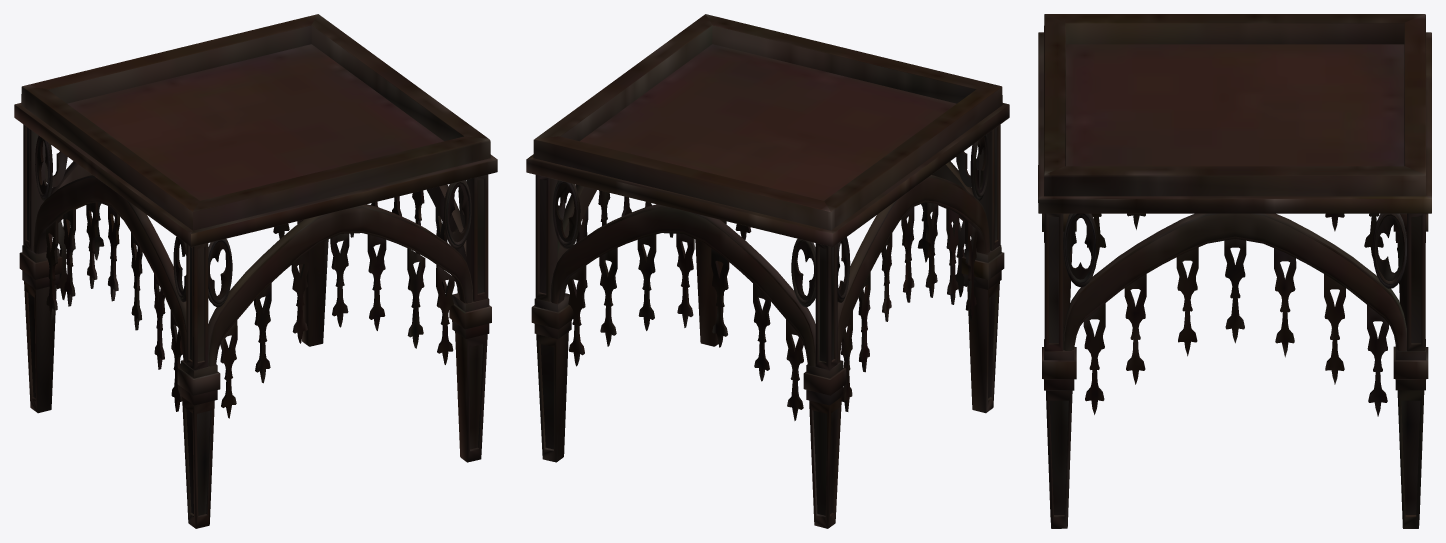
Rendered from ph-gothic-coffee-table.glb.
3 views of the same model, side by side, from view 1: azimuth 30°, elevation 25°; view 2: azimuth 150°, elevation 25°; view 3: azimuth 270°, elevation 25° (orthographic). The views are drawn at different scales.
Parts seen in each view (by area): view 1: gothic_coffee_table; view 2: gothic_coffee_table; view 3: gothic_coffee_table.
Boxes of the visible parts, x1,y1,x2,y2 form: gothic_coffee_table: (14, 14, 497, 528); gothic_coffee_table: (526, 14, 1009, 528); gothic_coffee_table: (1038, 14, 1431, 528).
Size of the model in its own units: 0.9989 by 1 by 0.9983.
Materials: 1 (1 with a texture image).
